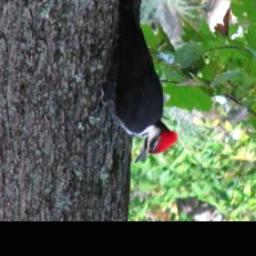Woodpecker: (90, 0, 182, 165)
